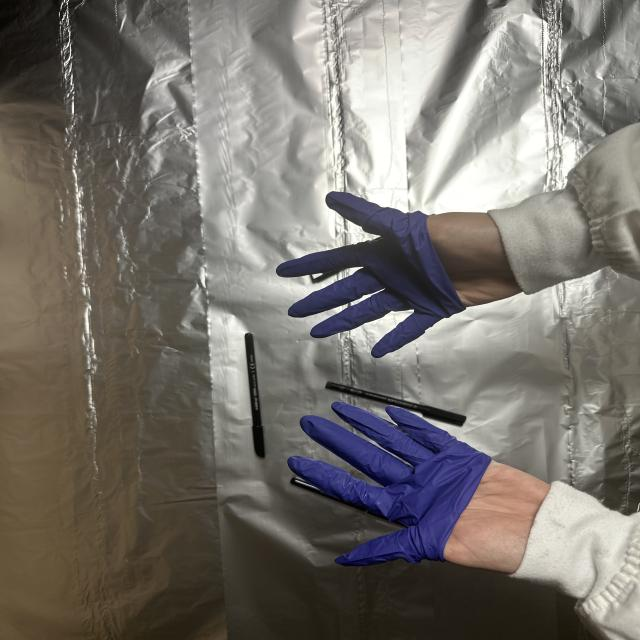glove_partial: (290, 398, 557, 578), (275, 188, 541, 358)
